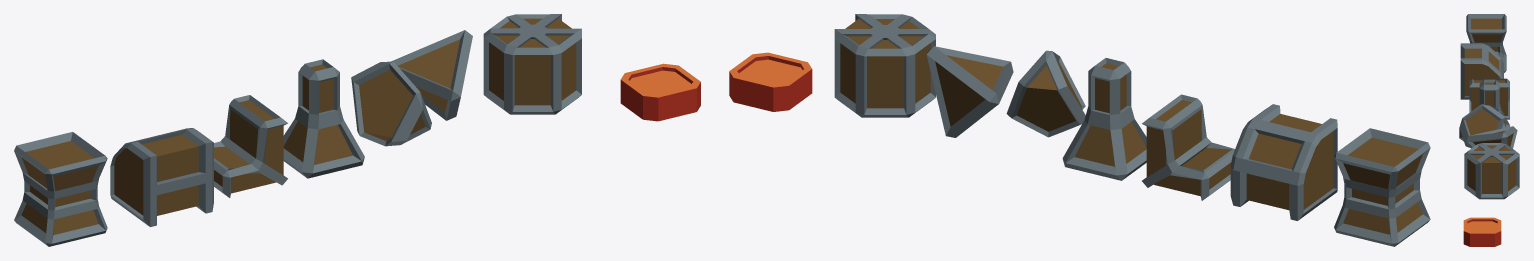
File: props.glb
3 views of the same model, side by side, from view 1: azimuth 30°, elevation 25°; view 2: azimuth 150°, elevation 25°; view 3: azimuth 270°, elevation 25° (orthographic). The views are drawn at different scales.
Parts seen in each view (by area): view 1: Cylinder, Cube.001, Cube, Cube.004, Cube.002, Icosphere, Cube.003, Prop.Button; view 2: Cube, Cylinder, Cube.001, Cube.004, Cube.002, Cube.003, Icosphere, Prop.Button; view 3: Cylinder, Cube, Cube.001, Prop.Button, Icosphere, Cube.002, Cube.003, Cube.004.
Part boxes in pixels (x1,y1,x2,y2): Cylinder: [483, 14, 581, 114]; Cube.001: [14, 132, 107, 246]; Cube: [110, 128, 213, 226]; Cube.004: [283, 59, 364, 178]; Cube.002: [214, 95, 287, 197]; Icosphere: [351, 61, 431, 146]; Cube.003: [391, 30, 472, 120]; Prop.Button: [620, 63, 700, 121]; Cube: [1230, 104, 1337, 220]; Cylinder: [834, 14, 935, 117]; Cube.001: [1334, 128, 1430, 246]; Cube.004: [1062, 58, 1146, 180]; Cube.002: [1142, 94, 1234, 200]; Cube.003: [926, 46, 1013, 137]; Icosphere: [1006, 50, 1085, 137]; Prop.Button: [729, 52, 812, 111]; Cylinder: [1464, 143, 1519, 199]; Cube: [1460, 43, 1503, 99]; Cube.001: [1466, 14, 1506, 72]; Prop.Button: [1463, 217, 1501, 246]; Icosphere: [1459, 104, 1505, 148]; Cube.002: [1469, 78, 1509, 119]; Cube.003: [1467, 126, 1517, 148]; Cube.004: [1479, 79, 1509, 128].
Bounding box in the file's own units: 23.1 × 3.91 × 3.27.
